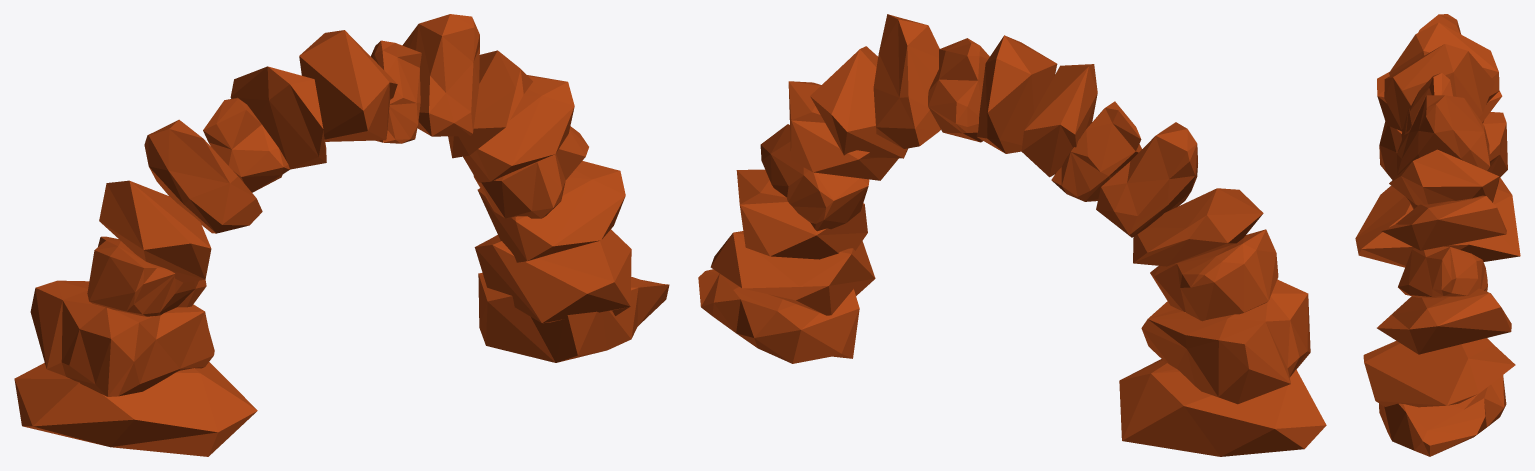
Rendered from Stone_desert_big_2.fbx.
3 views of the same model, side by side, from view 1: azimuth 30°, elevation 25°; view 2: azimuth 150°, elevation 25°; view 3: azimuth 270°, elevation 25° (orthographic). The views are drawn at different scales.
Parts seen in each view (by area): view 1: Stone_desert_big_002; view 2: Stone_desert_big_002; view 3: Stone_desert_big_002.
Boxes of the visible parts, box(x1,y1,x2,y2) form: Stone_desert_big_002: box(14, 14, 669, 456); Stone_desert_big_002: box(698, 14, 1326, 456); Stone_desert_big_002: box(1355, 14, 1520, 456).
Size of the model in its own units: 2063 by 1124 by 557.
1 material, 1 textured.
